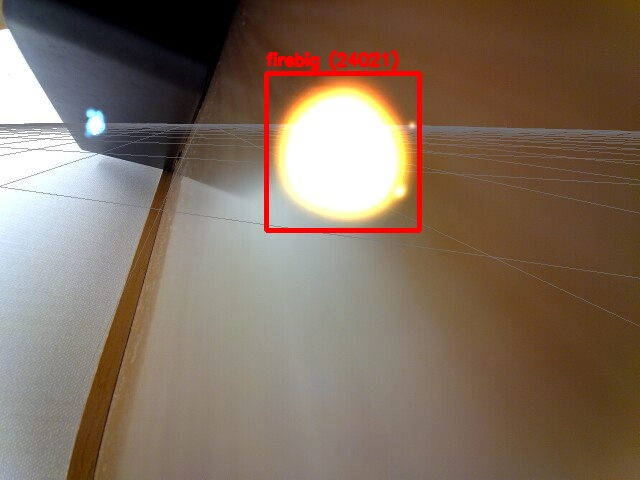firebig: (266, 73, 419, 230)
